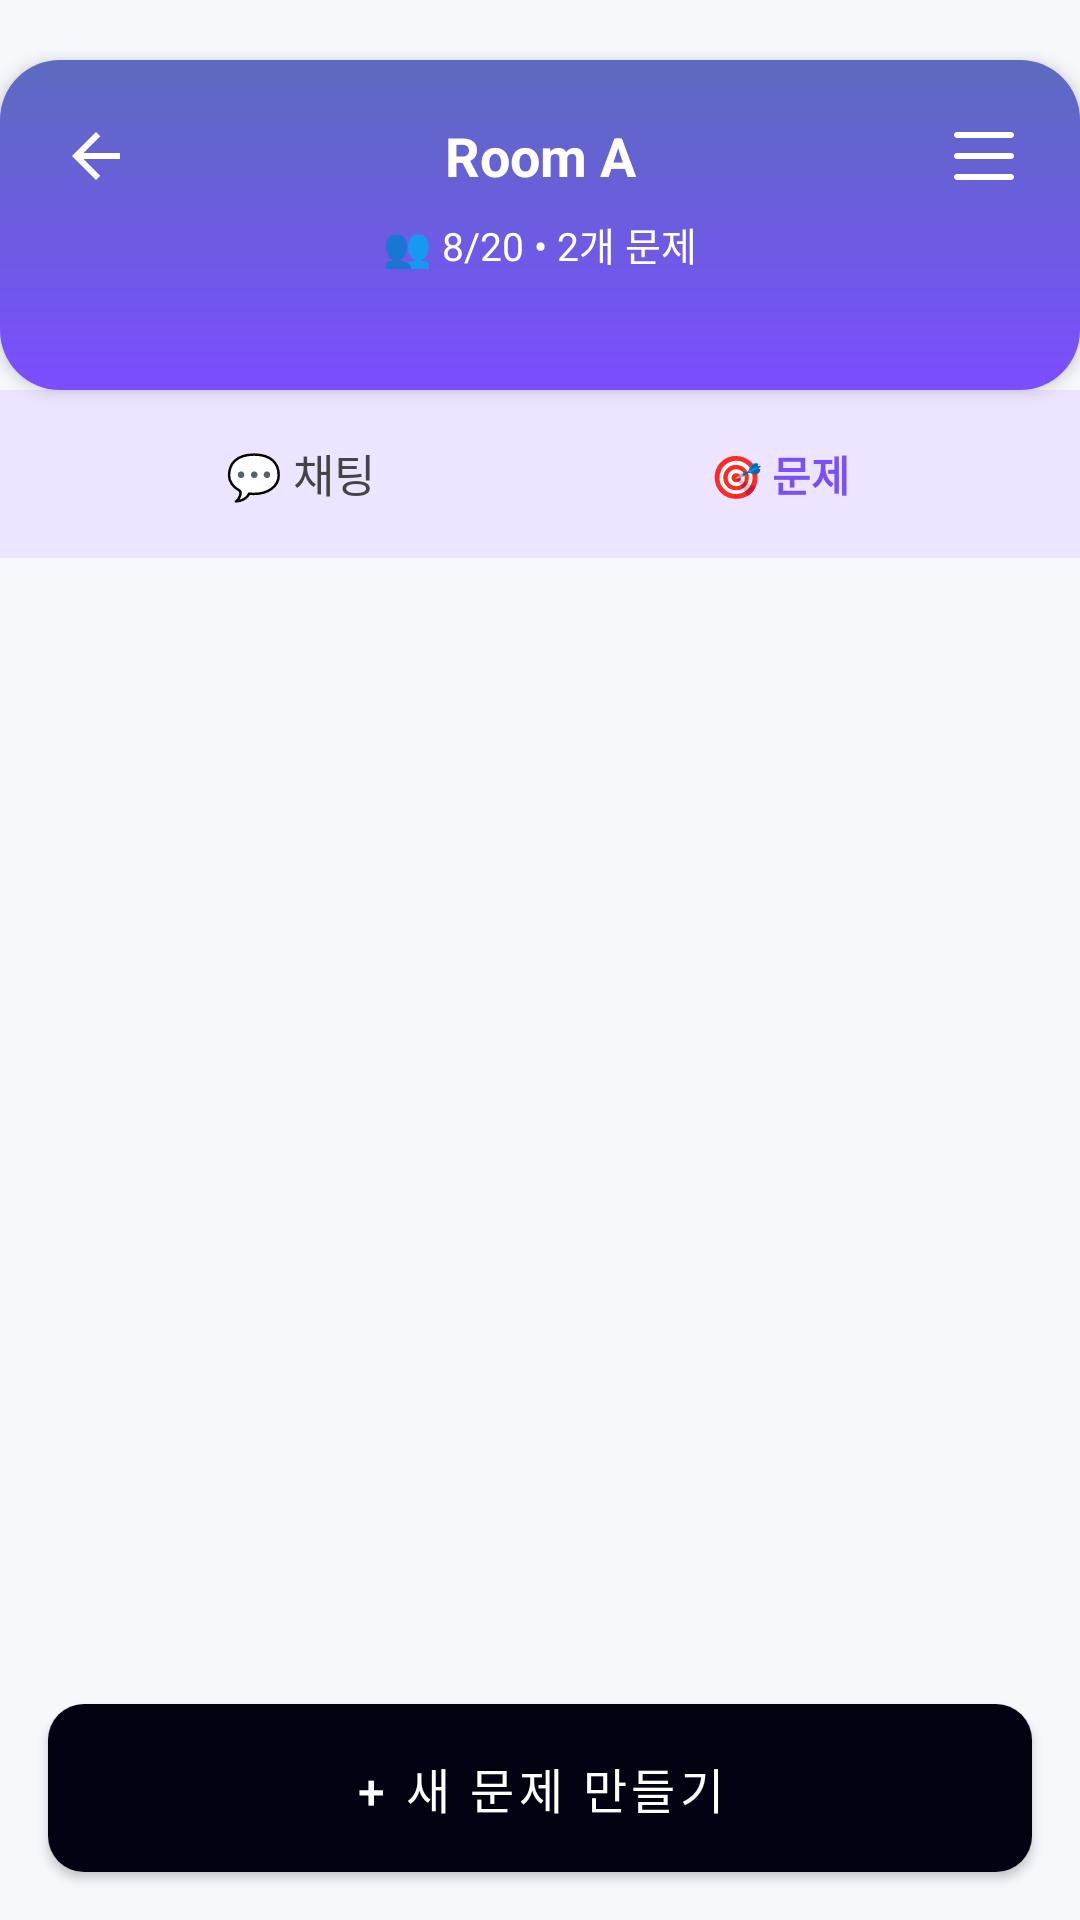

Point at icon controls on the screen. Image size 1080x1920, points as (x,y).
menu: (984,168)
